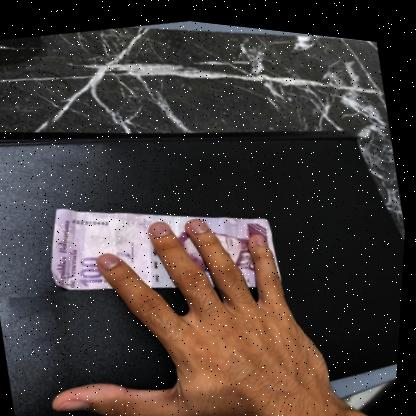one_hundred-front-vef: (39, 160, 290, 323)
